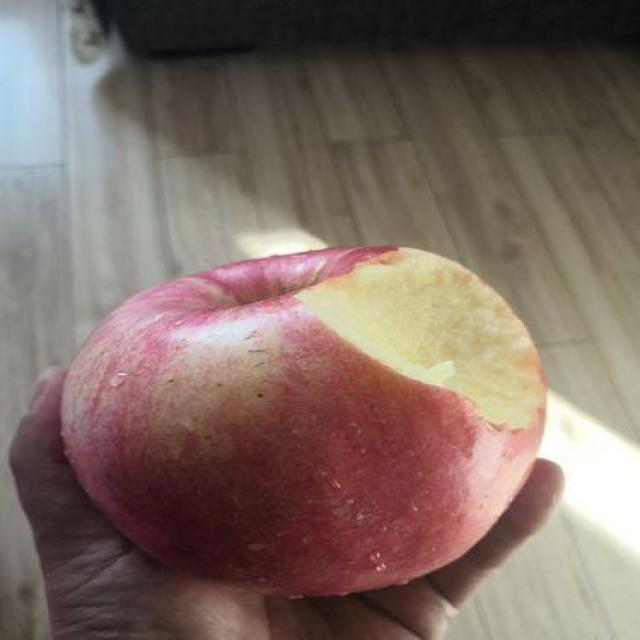Apple: (52, 235, 553, 600)
